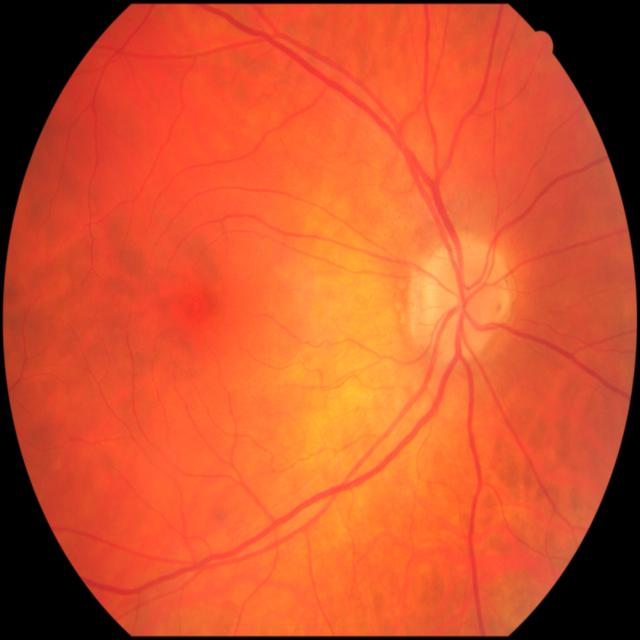OD: (423, 239, 514, 357)
